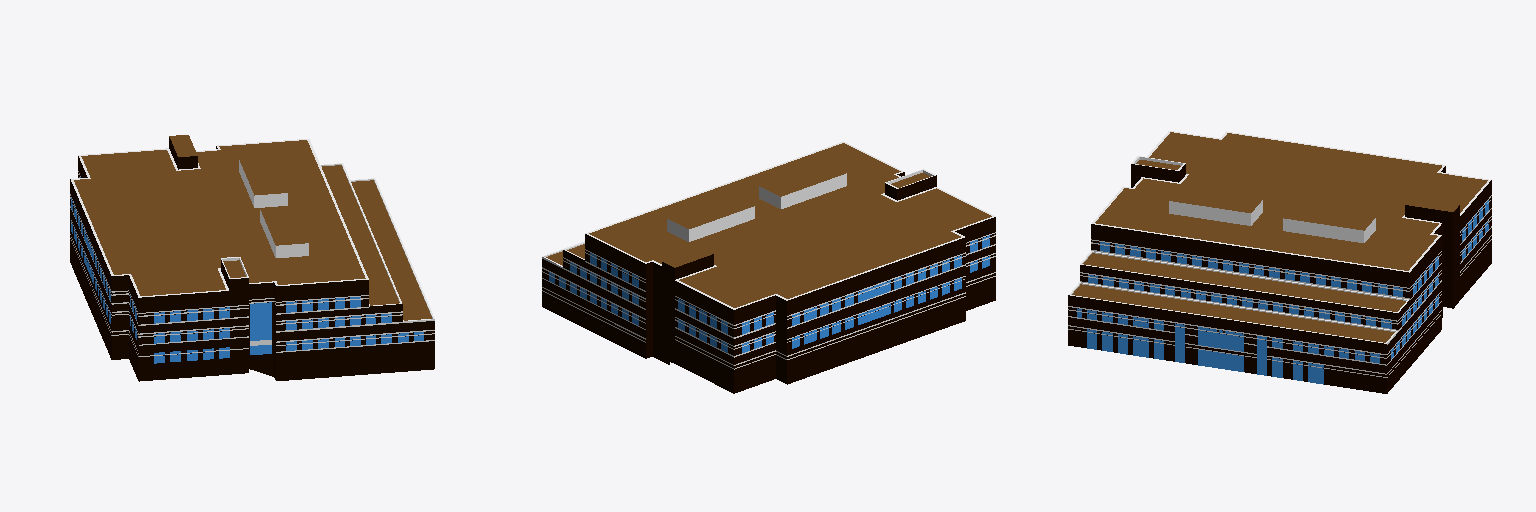
File: Engineering.obj
3 views of the same model, side by side, from view 1: azimuth 30°, elevation 25°; view 2: azimuth 150°, elevation 25°; view 3: azimuth 270°, elevation 25° (orthographic).
Parts seen in each view (by area): view 1: SM_EngBldg, SM_EngWndws; view 2: SM_EngBldg, SM_EngWndws; view 3: SM_EngBldg, SM_EngWndws.
Part boxes in pixels (x1,y1,x2,y2): SM_EngBldg: (70, 135, 434, 381); SM_EngWndws: (71, 177, 423, 363); SM_EngBldg: (542, 141, 995, 393); SM_EngWndws: (549, 235, 989, 352); SM_EngBldg: (1068, 131, 1491, 393); SM_EngWndws: (1077, 200, 1488, 384).
Bounding box in the file's own units: 7223 × 2150 × 7659.